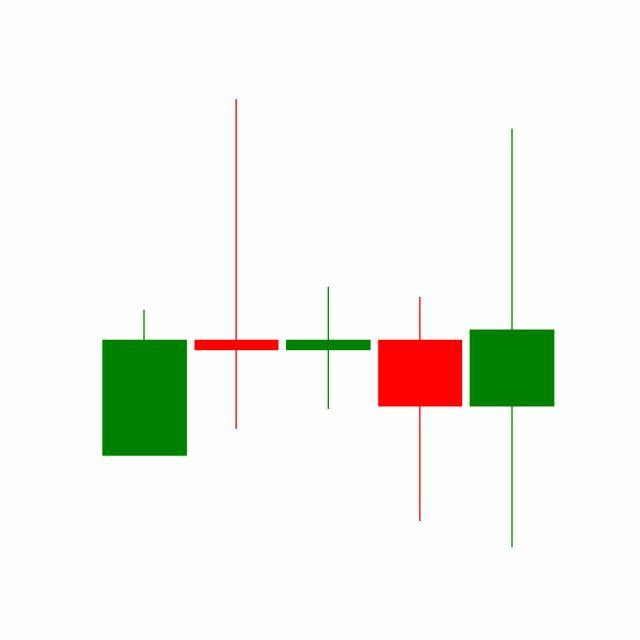Spinning Top: (466, 125, 559, 553)
